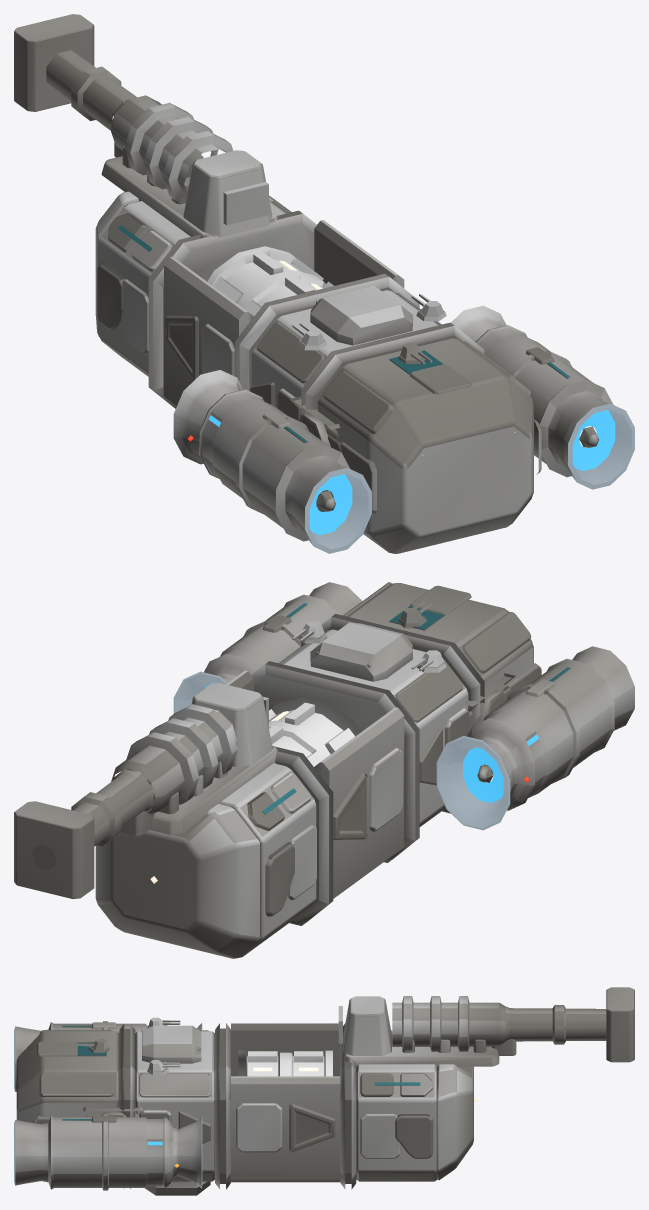
The model's file is troyden_frigate.glb.
3 renders of one model, top to bottom at view 1: azimuth 30°, elevation 25°; view 2: azimuth 150°, elevation 25°; view 3: azimuth 270°, elevation 25°, orthographic. The views are drawn at different scales.
Parts seen in each view (by area): view 1: hull, engines, reactor; view 2: hull, engines, reactor, pd_1, pd_0; view 3: hull, engines, reactor, pd_1, pd_2.
Boxes of the visible parts, x1,y1,x2,y2 form: hull: (14, 14, 541, 553); engines: (173, 305, 634, 553); reactor: (207, 246, 333, 316); hull: (14, 582, 541, 958); engines: (173, 582, 634, 830); reactor: (269, 696, 360, 766); pd_1: (292, 621, 327, 643); pd_0: (411, 650, 446, 672); hull: (16, 987, 634, 1195); engines: (14, 1021, 202, 1190); reactor: (238, 1050, 332, 1076); pd_1: (147, 1060, 180, 1075); pd_2: (76, 1038, 109, 1052).
Size of the model in its own units: 25.3 by 18.24 by 54.6.
10 materials, 4 textured.
